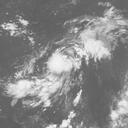cyclone: (46, 51, 74, 74)
